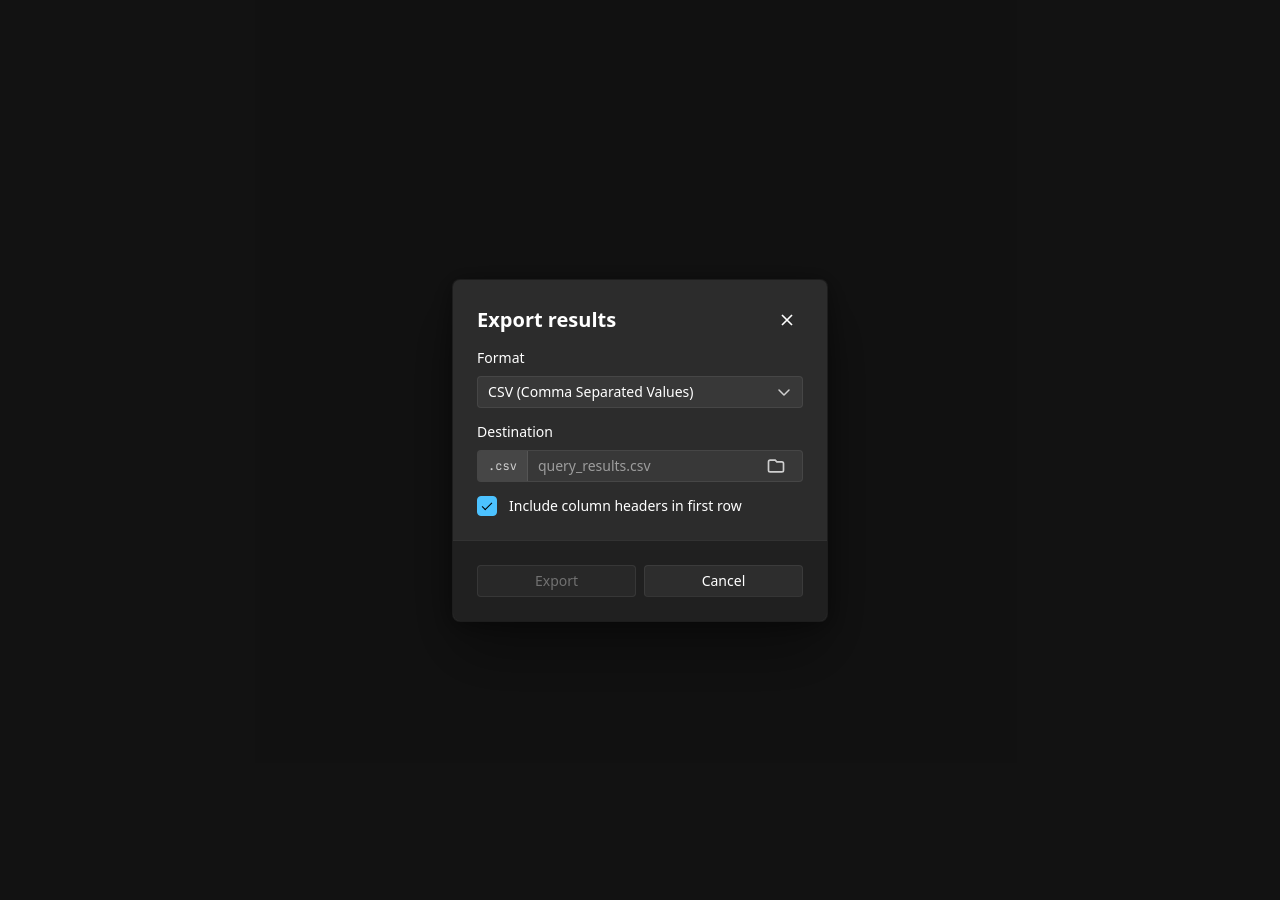
it: ExportDialog › shows error message for non-Error thrown value
In the field with test id "export-file-path-input": point(639, 466) [528,450,750,480], type "/tmp/export.csv"
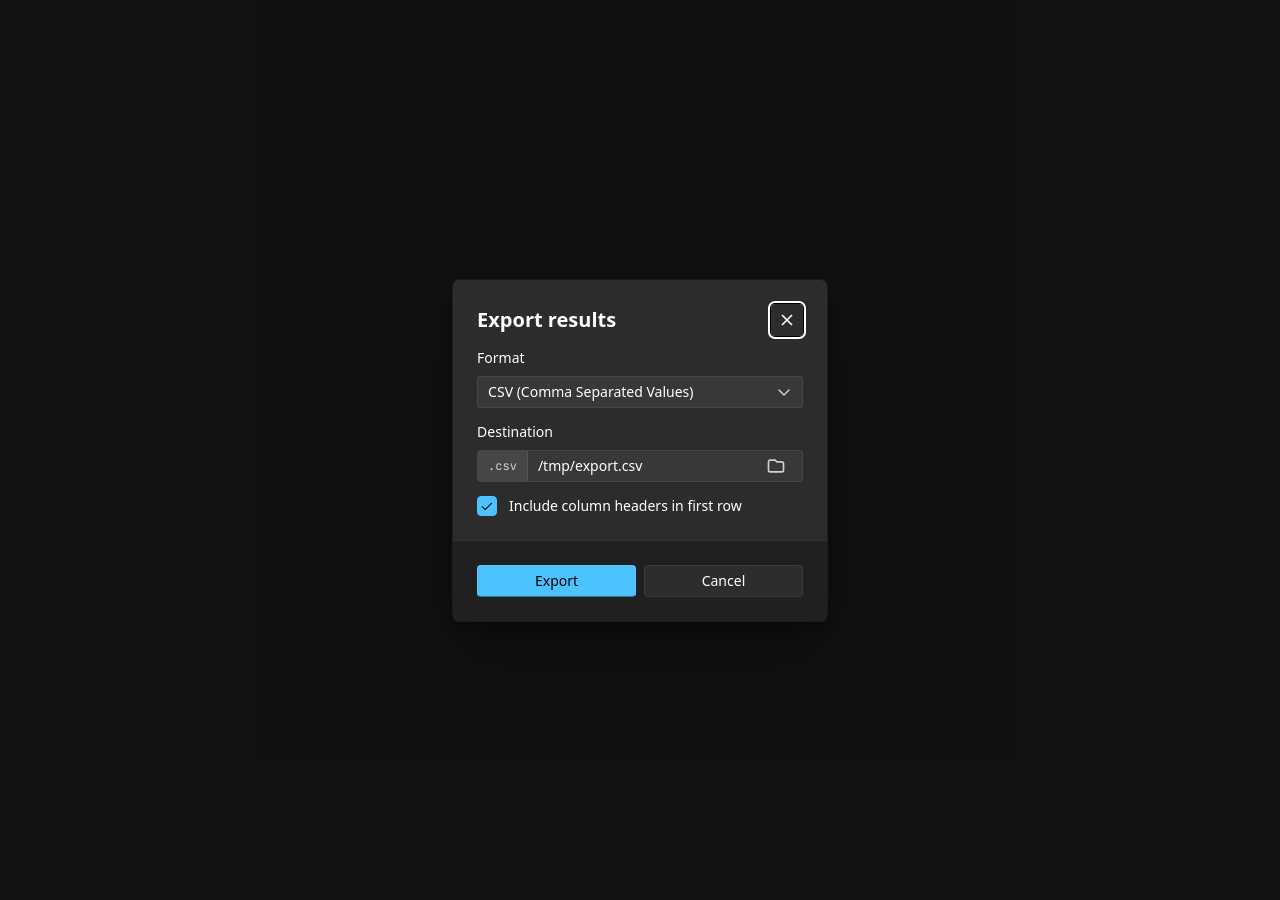
Click the button with test id "export-submit-button": point(557, 580) [477,564,636,596]
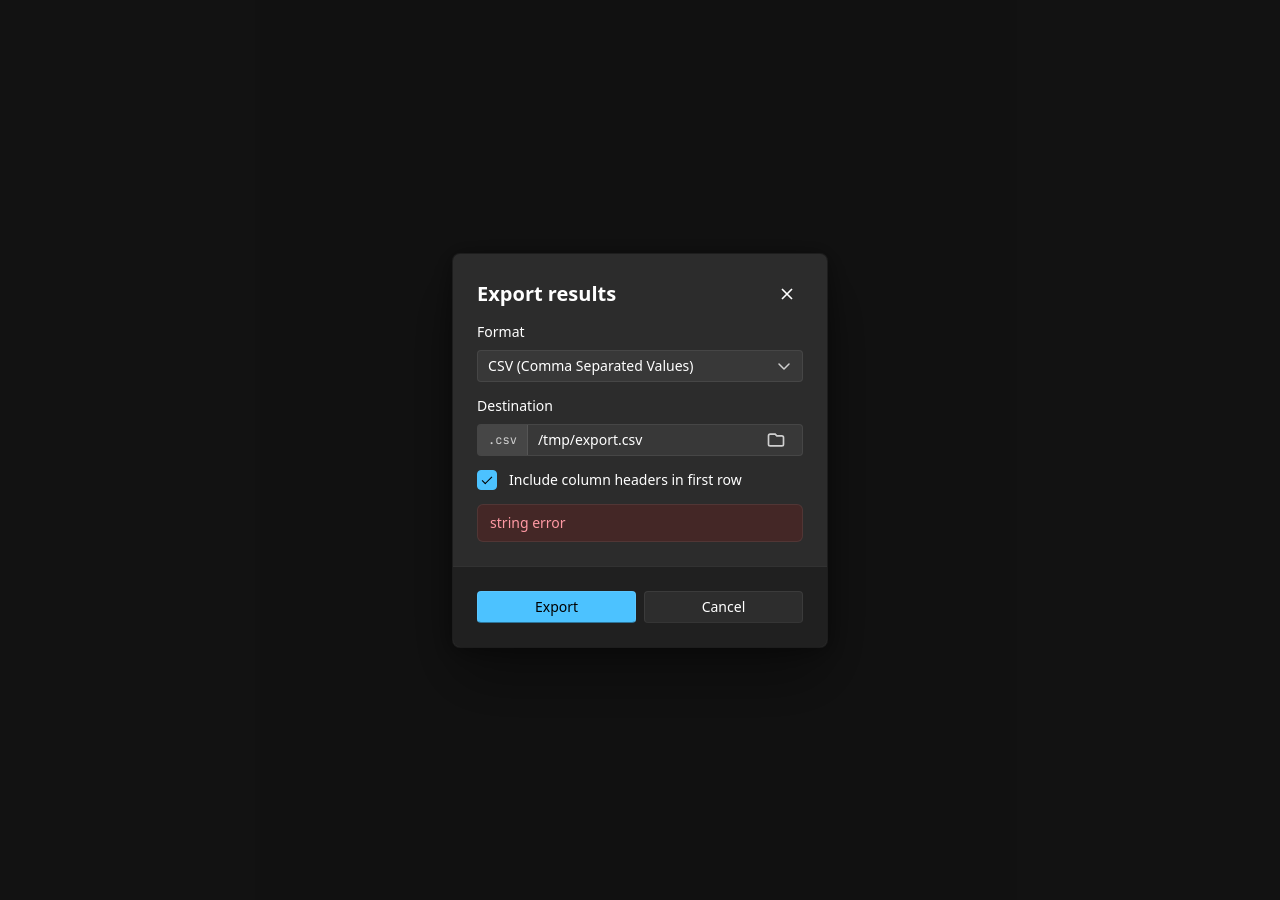
Expected: the text with test id "export-error" reads "string error", [490,512,566,532]
